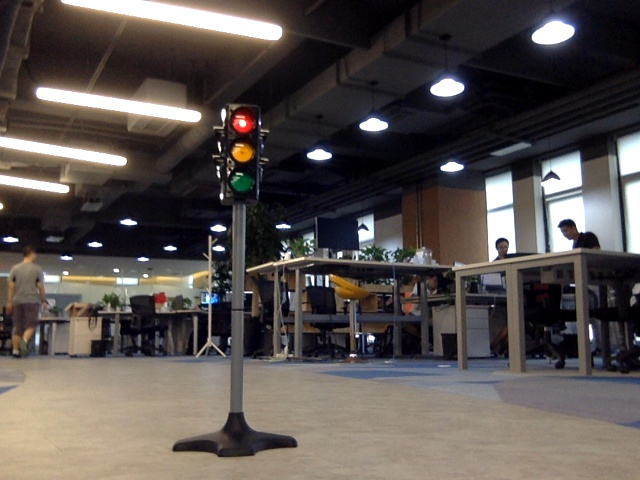red: (226, 109, 257, 197)
